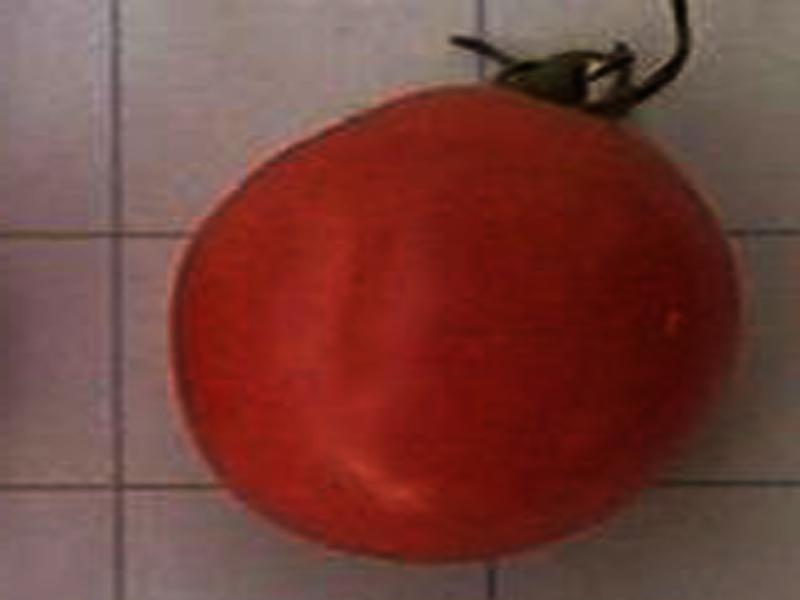Tomato: (172, 85, 740, 563)
